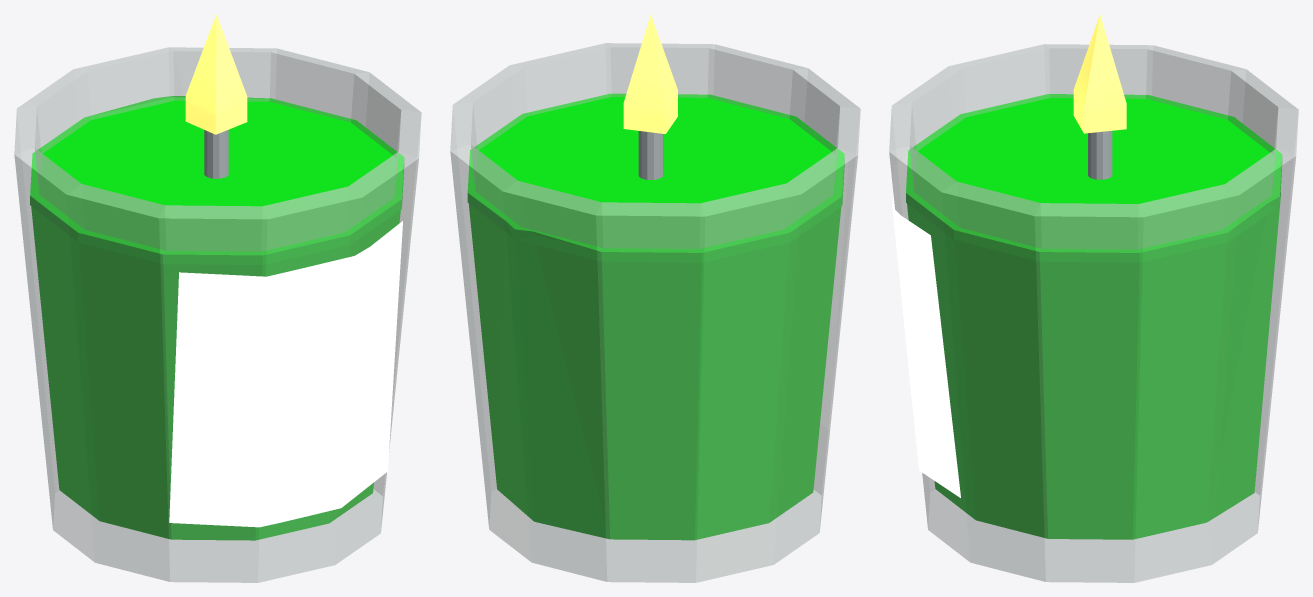
Rendered from tinyVotiveIllumin81.glb.
3 renders of one model, left to right at view 1: azimuth 30°, elevation 25°; view 2: azimuth 150°, elevation 25°; view 3: azimuth 270°, elevation 25°, orthographic.
Parts seen in each view (by area): view 1: glass, XBase, Plane, Flame, Wick; view 2: glass, XBase, Flame, Plane, Wick; view 3: glass, XBase, Plane, Flame, Wick.
Boxes of the visible parts, bbox=[...] form: glass: bbox=[14, 47, 421, 582]; XBase: bbox=[30, 96, 404, 540]; Plane: bbox=[169, 221, 402, 527]; Flame: bbox=[185, 14, 247, 134]; Wick: bbox=[204, 130, 228, 178]; glass: bbox=[450, 43, 860, 582]; XBase: bbox=[467, 93, 844, 540]; Flame: bbox=[623, 14, 677, 133]; Plane: bbox=[820, 155, 848, 429]; Wick: bbox=[638, 131, 663, 179]; glass: bbox=[889, 44, 1298, 582]; XBase: bbox=[906, 94, 1282, 539]; Plane: bbox=[892, 155, 960, 497]; Flame: bbox=[1073, 14, 1126, 133]; Wick: bbox=[1088, 131, 1112, 179].
Bounding box in the file's own units: 1.3 × 1.75 × 1.3.
